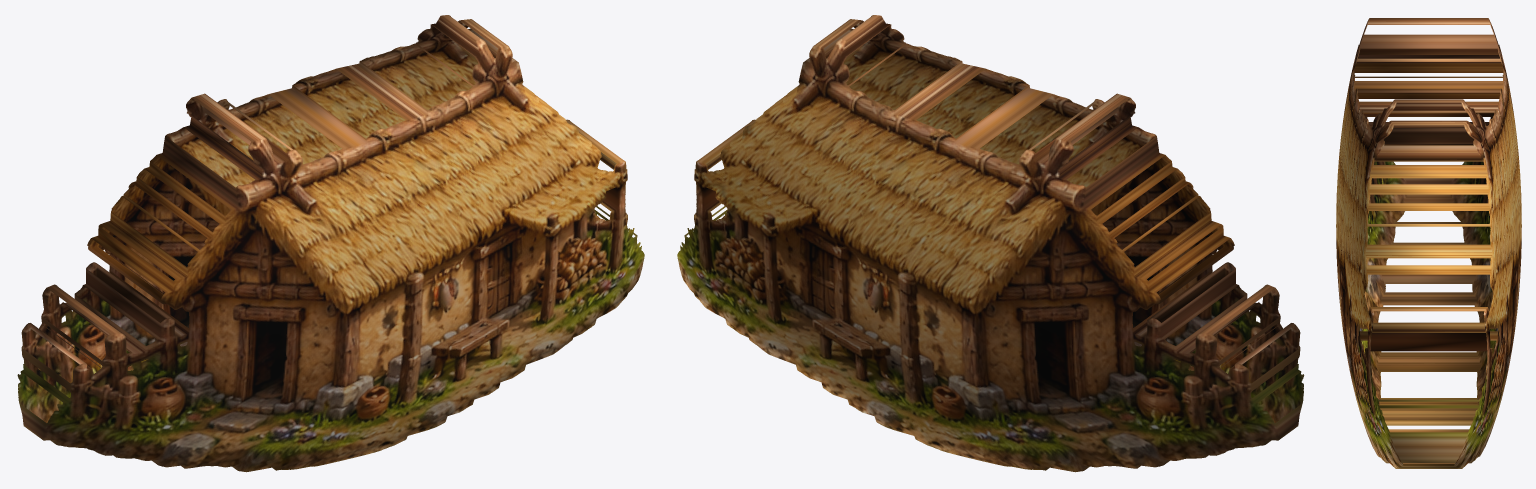
3 views of the same model, side by side, from view 1: azimuth 30°, elevation 25°; view 2: azimuth 150°, elevation 25°; view 3: azimuth 270°, elevation 25° (orthographic).
Parts seen in each view (by area): view 1: villages:2; view 2: villages:2; view 3: villages:2.
Boxes of the visible parts, left/top/right/bottom form: villages:2: left=17, top=15, right=644, bottom=472; villages:2: left=677, top=15, right=1304, bottom=472; villages:2: left=1336, top=18, right=1521, bottom=468.
Size of the model in its own units: 1.54 by 0.9444 by 0.42.
Materials: 1 (1 with a texture image).
